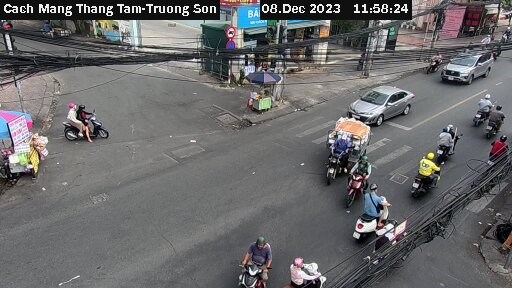car: (348, 81, 420, 127), (443, 42, 495, 85)
motorbike: (56, 101, 120, 153), (224, 233, 277, 288), (346, 188, 390, 227), (415, 149, 451, 196), (344, 160, 385, 197), (283, 252, 321, 288), (435, 118, 467, 156), (480, 132, 508, 168), (480, 102, 505, 134), (471, 90, 499, 116), (422, 50, 446, 75)
